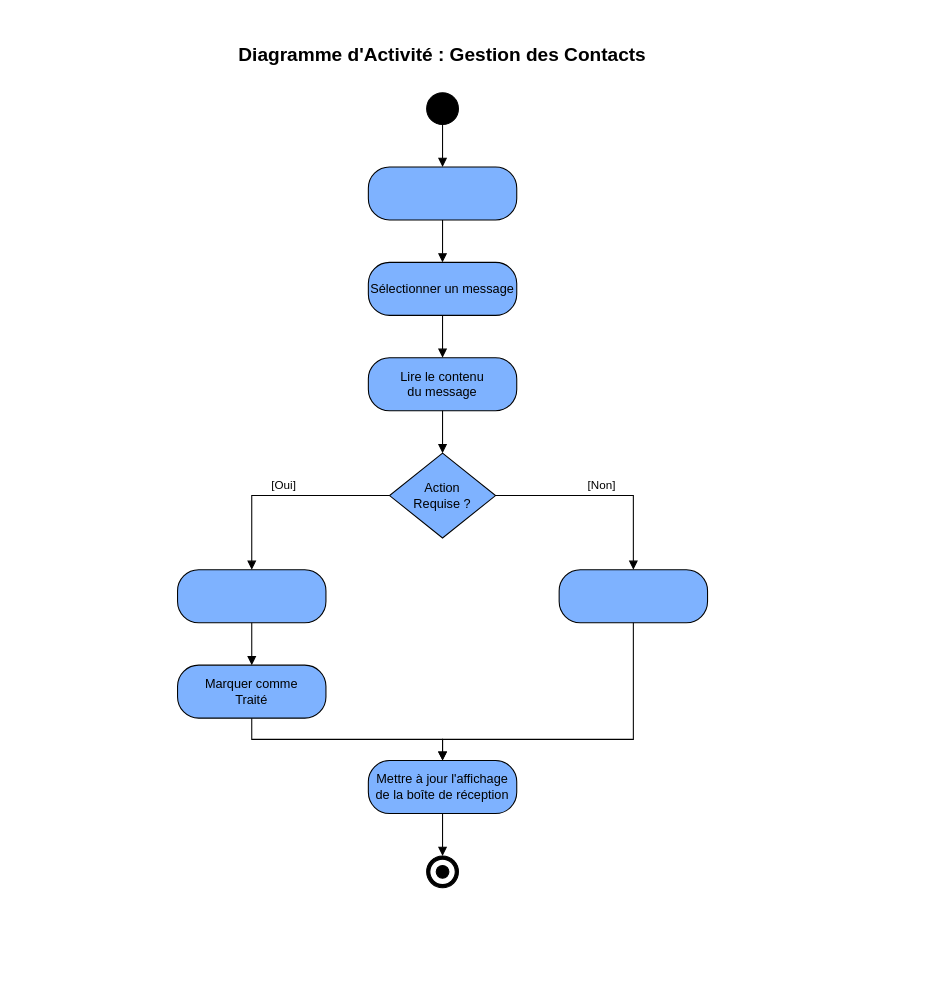
Image size: 938x991. Some labels were removed from this diagram. The box of each missing label's shape, as (x1, y1, x2, y2) in pixels:
Archiver ou supprimer le message: (558, 569, 708, 623)
Consulter la liste des messages: (367, 166, 517, 220)
Saisir et envoyer la réponse (Email): (176, 569, 326, 623)
